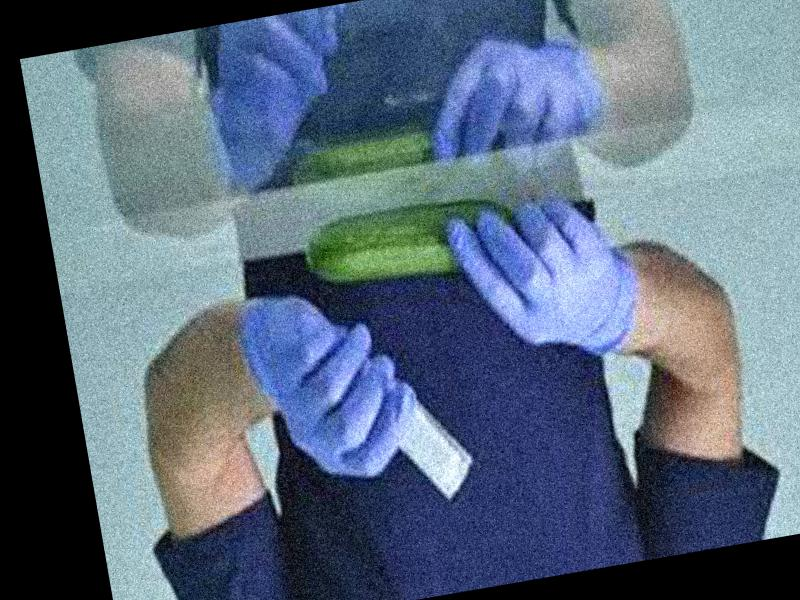Cucumber: (299, 188, 519, 294)
